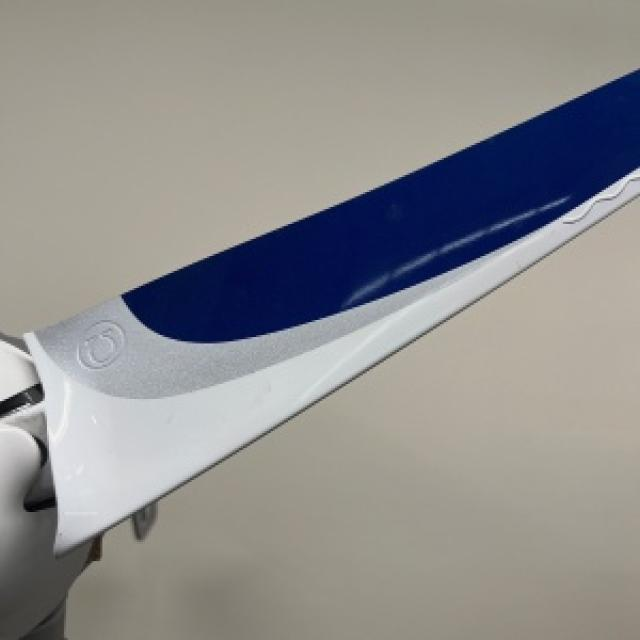healthy: (68, 198, 638, 638), (0, 0, 638, 331)
